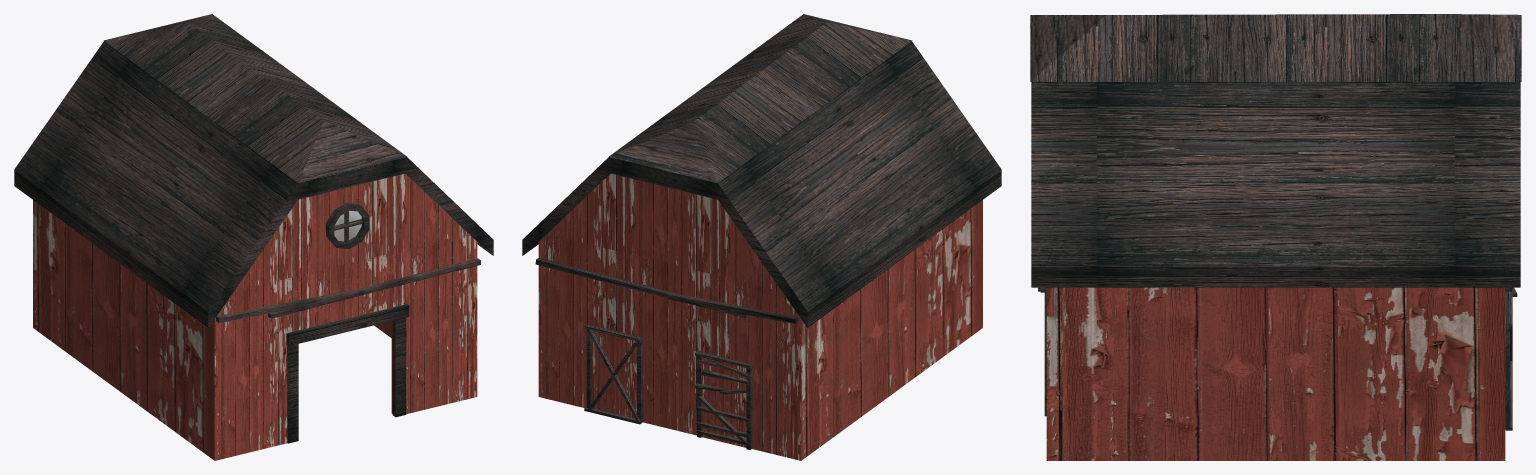
File: Barn5_2_reworked.FBX
3 views of the same model, side by side, from view 1: azimuth 30°, elevation 25°; view 2: azimuth 150°, elevation 25°; view 3: azimuth 270°, elevation 25° (orthographic). The views are drawn at different scales.
Visible parts, largest first — view 1: Box001, Box003, Box005, Box002, Box008, Box009, Box007, Box006, Tube001, Box010; view 2: Box001, Box003, Box005, Box002, Box011, Box012, Box035, Box034, Box031, Box014; view 3: Box003, Box001, Box005, Box028.
Part boxes in pixels (left/top/right/bottom): Box001: left=33, top=200, right=477, bottom=460; Box003: left=14, top=41, right=493, bottom=327; Box005: left=103, top=14, right=406, bottom=183; Box002: left=233, top=173, right=470, bottom=293; Box008: left=286, top=304, right=409, bottom=345; Box009: left=268, top=258, right=480, bottom=318; Box007: left=392, top=317, right=406, bottom=417; Box006: left=287, top=344, right=298, bottom=443; Tube001: left=326, top=203, right=369, bottom=248; Box010: left=216, top=291, right=346, bottom=322; Box001: left=538, top=200, right=982, bottom=460; Box003: left=522, top=41, right=1001, bottom=327; Box005: left=609, top=14, right=912, bottom=183; Box002: left=546, top=173, right=781, bottom=292; Box011: left=591, top=330, right=636, bottom=418; Box012: left=702, top=357, right=746, bottom=447; Box035: left=535, top=258, right=748, bottom=318; Box034: left=667, top=292, right=798, bottom=323; Box031: left=586, top=328, right=640, bottom=422; Box014: left=746, top=368, right=752, bottom=449; Box003: left=1031, top=82, right=1520, bottom=287; Box001: left=1046, top=287, right=1505, bottom=460; Box005: left=1030, top=14, right=1521, bottom=81; Box028: left=1505, top=323, right=1509, bottom=429.
Bounding box in the file's own units: 690 × 671 × 817.
Materials: 4 (4 with a texture image).
